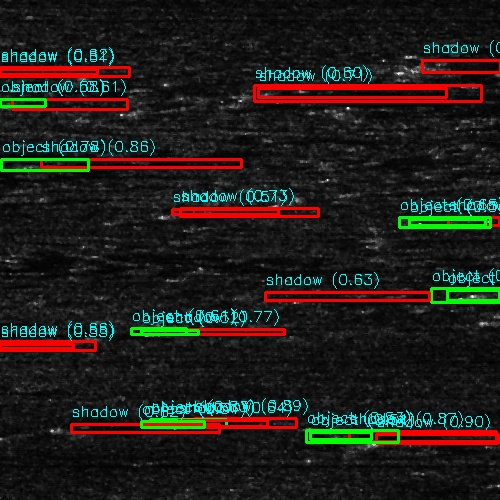rock: (385, 54, 500, 75), (331, 427, 424, 452), (201, 84, 336, 101), (5, 158, 110, 169), (439, 288, 500, 301), (422, 216, 495, 225), (53, 425, 116, 434), (162, 208, 235, 215), (151, 420, 224, 427), (0, 323, 44, 334), (145, 328, 186, 333), (449, 82, 490, 85)
shadow: (269, 84, 488, 101), (378, 427, 500, 452), (58, 158, 262, 169), (0, 323, 165, 334), (0, 252, 54, 279), (0, 68, 130, 77), (85, 425, 212, 434), (448, 54, 500, 75), (0, 171, 89, 182), (166, 328, 298, 333), (0, 343, 119, 348), (0, 53, 40, 66), (199, 208, 268, 215), (188, 420, 253, 427), (459, 216, 500, 225), (470, 82, 500, 85)
